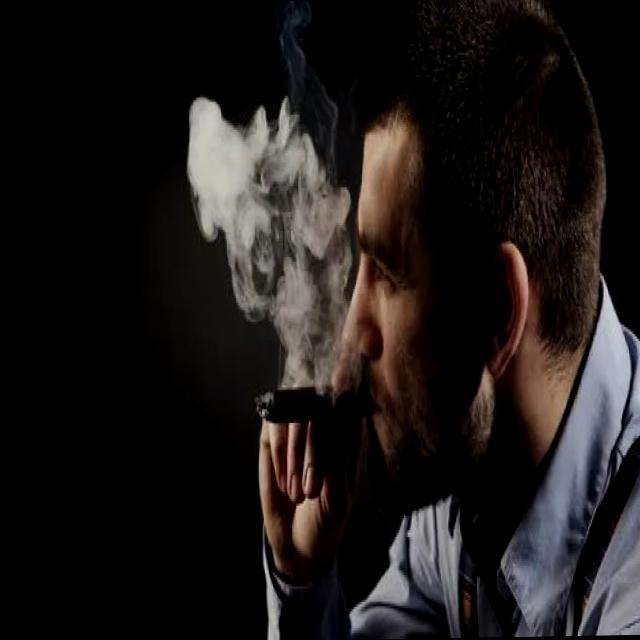cigarette: (242, 376, 380, 430)
